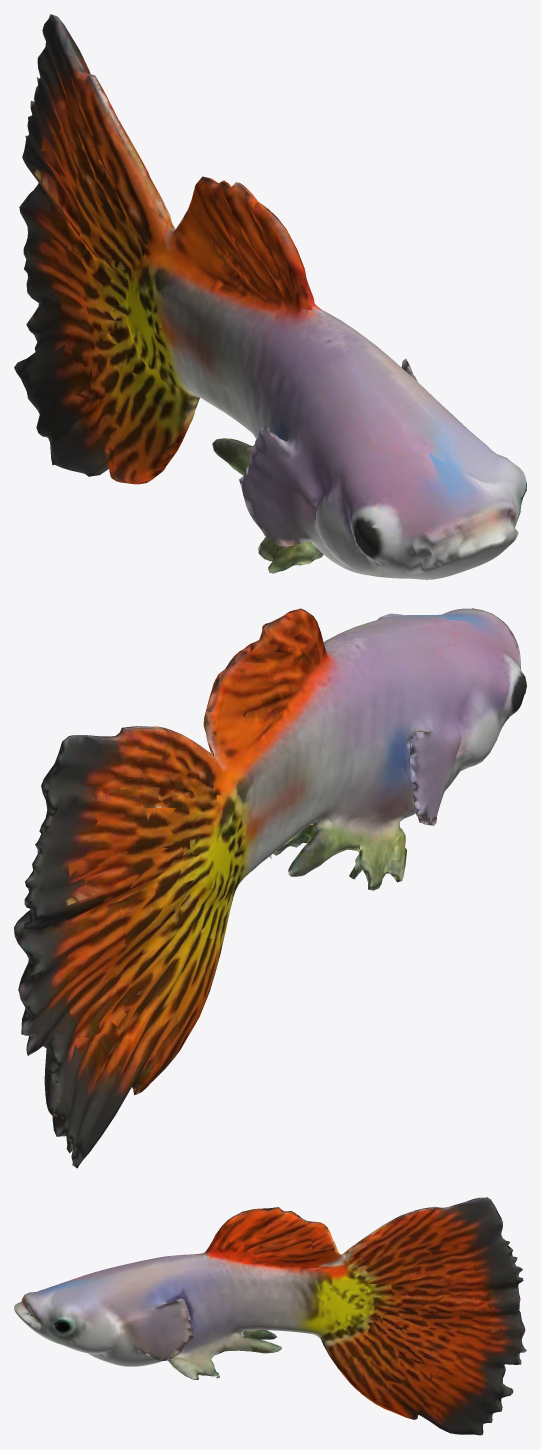
Rendered from strain-red_mosaic.glb.
The picture shows the model from 3 angles, top to bottom: view 1: azimuth 30°, elevation 25°; view 2: azimuth 150°, elevation 25°; view 3: azimuth 270°, elevation 25°; orthographic projection. The views are drawn at different scales.
Visible parts, largest first — view 1: Mesh_0.001; view 2: Mesh_0.001; view 3: Mesh_0.001.
Part boxes in pixels (x1,y1,x2,y2): Mesh_0.001: [14, 14, 526, 579]; Mesh_0.001: [14, 608, 526, 1168]; Mesh_0.001: [14, 1197, 526, 1435].
Bounding box in the file's own units: 0.00796 × 0.0181 × 0.0352.
2 materials, 2 textured.
